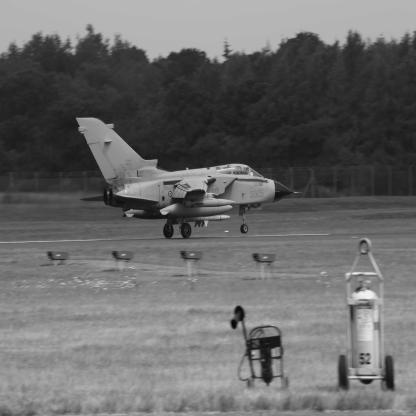Tornado: (77, 118, 304, 239)
